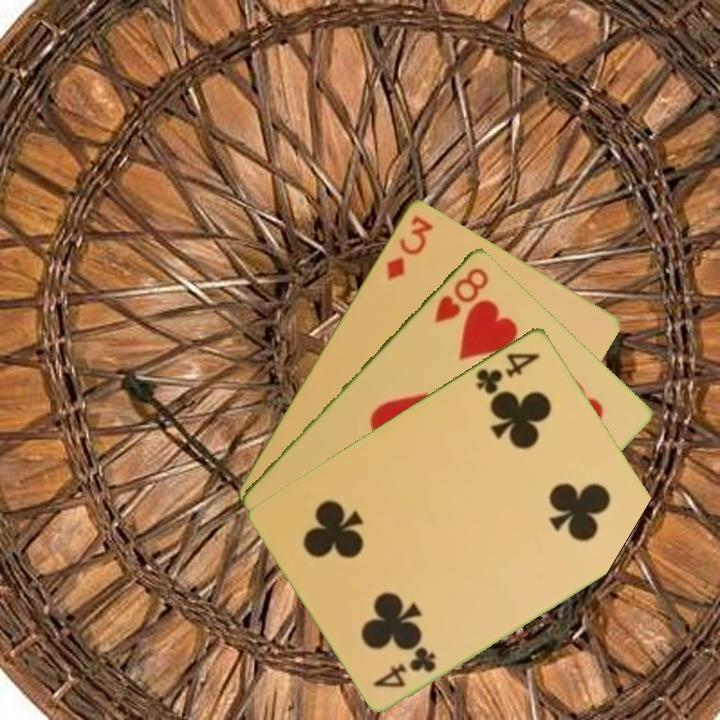3d: (382, 211, 436, 283)
4c: (472, 348, 544, 397), (369, 645, 439, 691)
8h: (430, 263, 492, 326)
